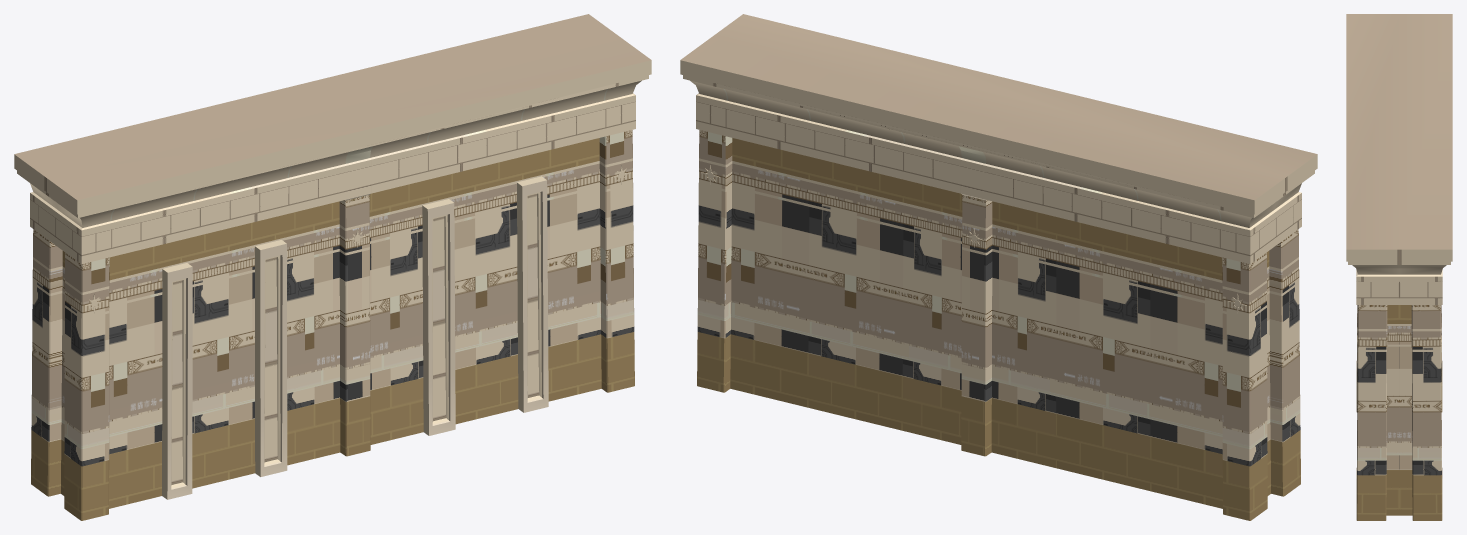
File: Wall1.fbx
3 renders of one model, left to right at view 1: azimuth 30°, elevation 25°; view 2: azimuth 150°, elevation 25°; view 3: azimuth 270°, elevation 25°, orthographic. The views are drawn at different scales.
Visible parts, largest first — view 1: polySurface26; view 2: polySurface26; view 3: polySurface26.
Part boxes in pixels (x1,y1,x2,y2): polySurface26: (14,14,651,520); polySurface26: (680,14,1317,520); polySurface26: (1346,14,1452,520).
Bounding box in the file's own units: 3.33 × 1.81 × 0.6331.
